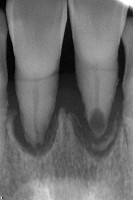Dental Caries: (7, 66, 126, 159)
